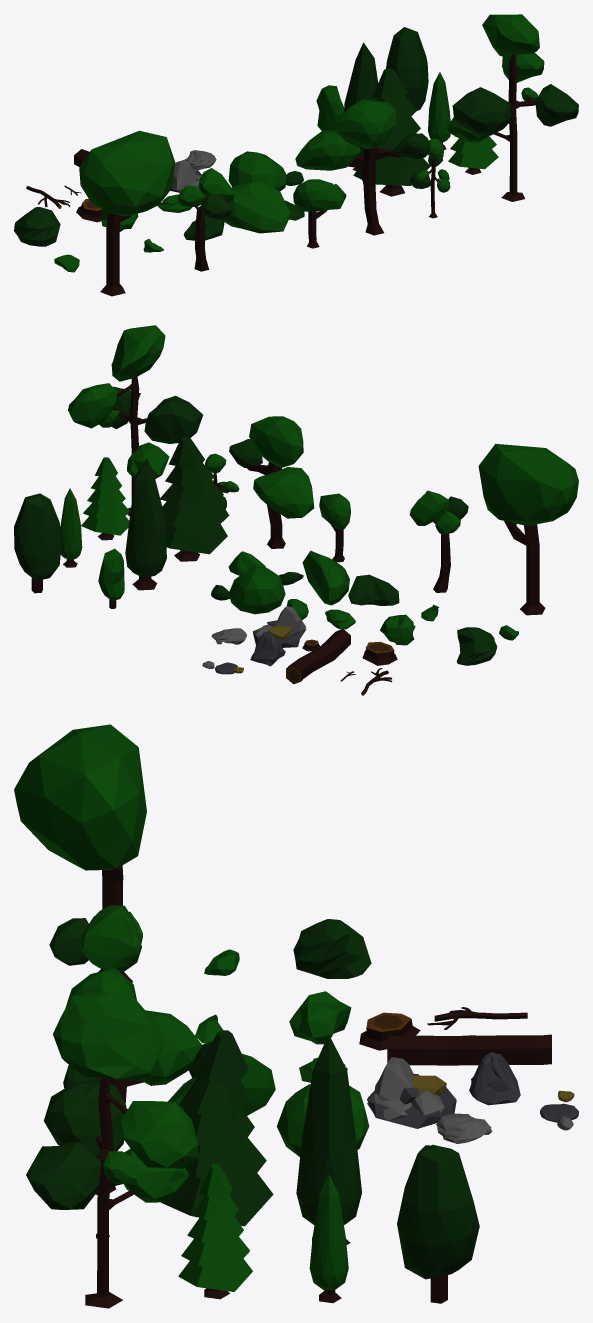
The model's file is forest_1.fbx.
3 renders of one model, top to bottom at view 1: azimuth 30°, elevation 25°; view 2: azimuth 150°, elevation 25°; view 3: azimuth 270°, elevation 25°, orthographic. The views are drawn at different scales.
Visible parts, largest first — view 1: forest1_1, forest31_1, forest3_1, forest6_1, forest20_1, forest8_1, forest32_1, forest9_1, forest24_1, forest14_1, forest4_1, forest7_1 (+7 smaller); view 2: forest1_1, forest31_1, forest3_1, forest6_1, forest4_1, forest32_1, forest7_1, forest8_1, forest24_1, forest20_1, forest35_1, forest5_1 (+10 smaller); view 3: forest1_1, forest31_1, forest6_1, forest32_1, forest4_1, forest7_1, forest35_1, forest8_1, forest3_1, forest17_1, forest14_1, forest5_1 (+7 smaller).
Boxes of the visible parts, x1,y1,x2,y2 form: forest1_1: [446, 14, 578, 201]; forest31_1: [79, 130, 174, 296]; forest3_1: [295, 99, 430, 235]; forest6_1: [353, 68, 430, 196]; forest20_1: [224, 182, 290, 233]; forest8_1: [178, 168, 234, 271]; forest32_1: [386, 27, 428, 110]; forest9_1: [293, 179, 344, 248]; forest24_1: [228, 151, 287, 191]; forest14_1: [14, 207, 60, 246]; forest4_1: [344, 42, 378, 170]; forest7_1: [448, 136, 498, 174]; forest1_1: [68, 325, 202, 516]; forest31_1: [478, 443, 578, 615]; forest3_1: [229, 416, 314, 548]; forest6_1: [160, 437, 229, 561]; forest4_1: [125, 458, 166, 590]; forest32_1: [14, 493, 61, 593]; forest7_1: [81, 457, 129, 540]; forest8_1: [409, 490, 468, 592]; forest24_1: [228, 566, 285, 614]; forest20_1: [302, 550, 349, 605]; forest35_1: [286, 629, 350, 684]; forest5_1: [60, 488, 82, 567]; forest1_1: [26, 992, 198, 1308]; forest31_1: [14, 724, 146, 982]; forest6_1: [161, 1030, 273, 1226]; forest32_1: [397, 1145, 479, 1303]; forest4_1: [296, 1034, 361, 1244]; forest7_1: [178, 1164, 252, 1299]; forest35_1: [387, 1034, 551, 1065]; forest8_1: [49, 905, 142, 971]; forest3_1: [63, 968, 201, 1194]; forest17_1: [367, 1057, 456, 1128]; forest14_1: [293, 919, 371, 978]; forest5_1: [309, 1174, 348, 1303].
Bounding box in the file's own units: 43.78 × 27.13 × 16.07.
